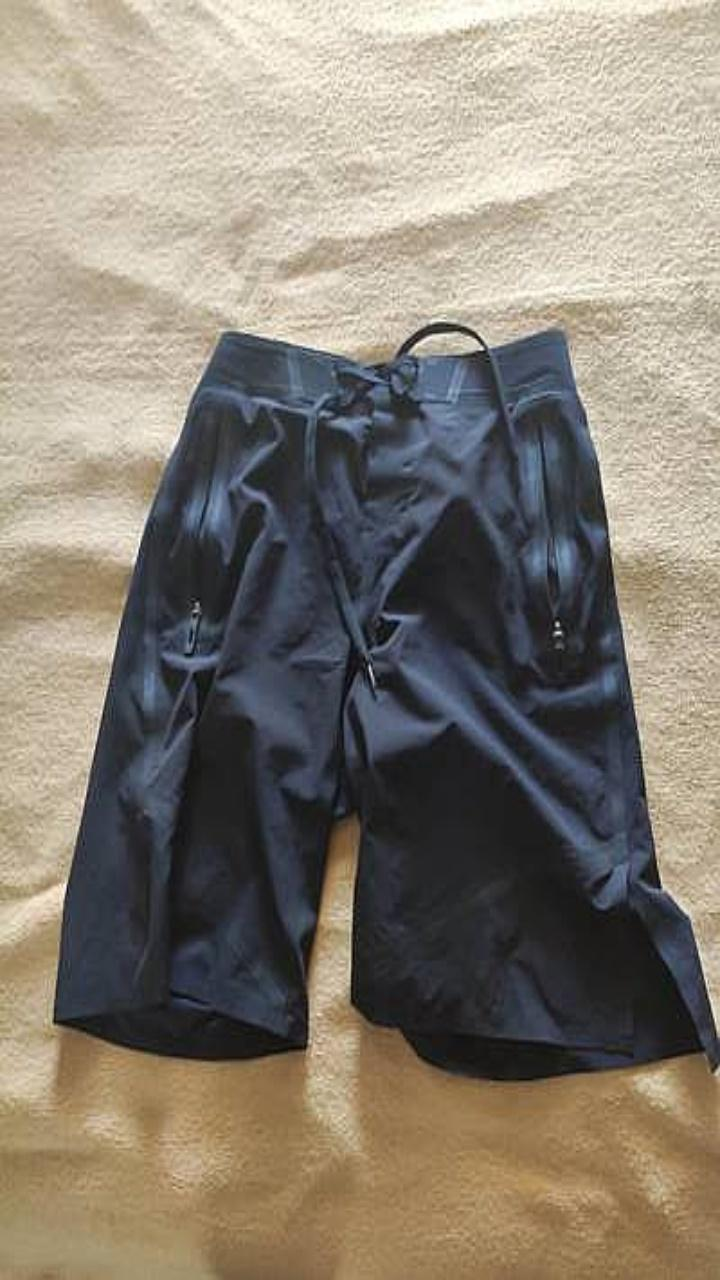Shorts: (53, 320, 719, 1078)
